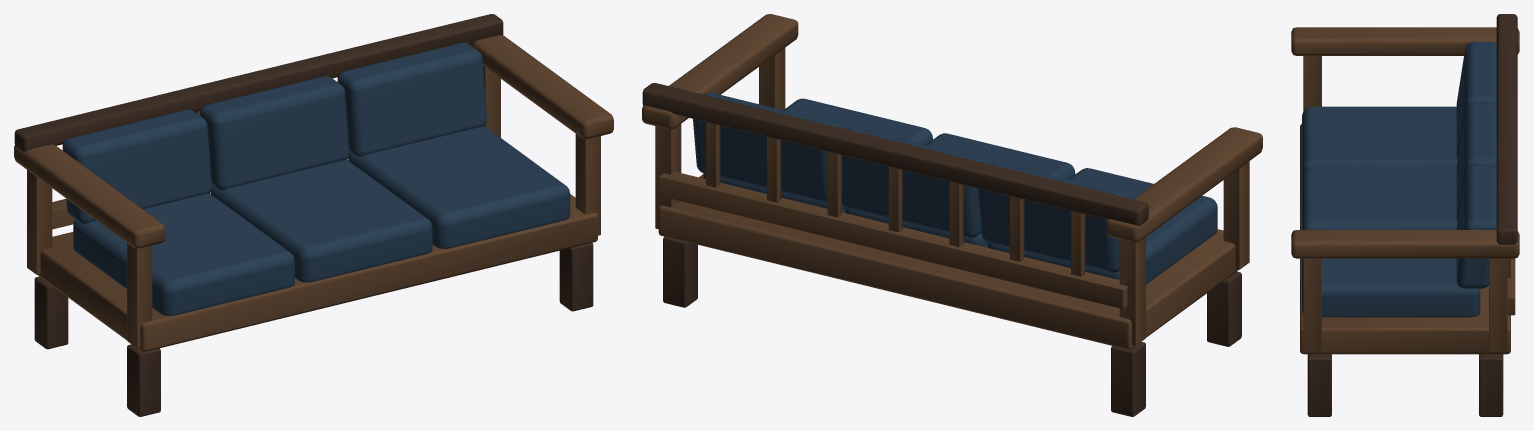
File: kominka-sofa-01.glb
3 renders of one model, left to right at view 1: azimuth 30°, elevation 25°; view 2: azimuth 150°, elevation 25°; view 3: azimuth 270°, elevation 25°, orthographic. The views are drawn at different scales.
Visible parts, largest first — view 1: kominka-sofa-01; view 2: kominka-sofa-01; view 3: kominka-sofa-01.
Boxes of the visible parts, box(x1,y1,x2,y2) form: kominka-sofa-01: box(14, 14, 613, 416); kominka-sofa-01: box(642, 14, 1262, 416); kominka-sofa-01: box(1291, 14, 1519, 416).
Size of the model in its own units: 1.8 by 0.75 by 0.8.
